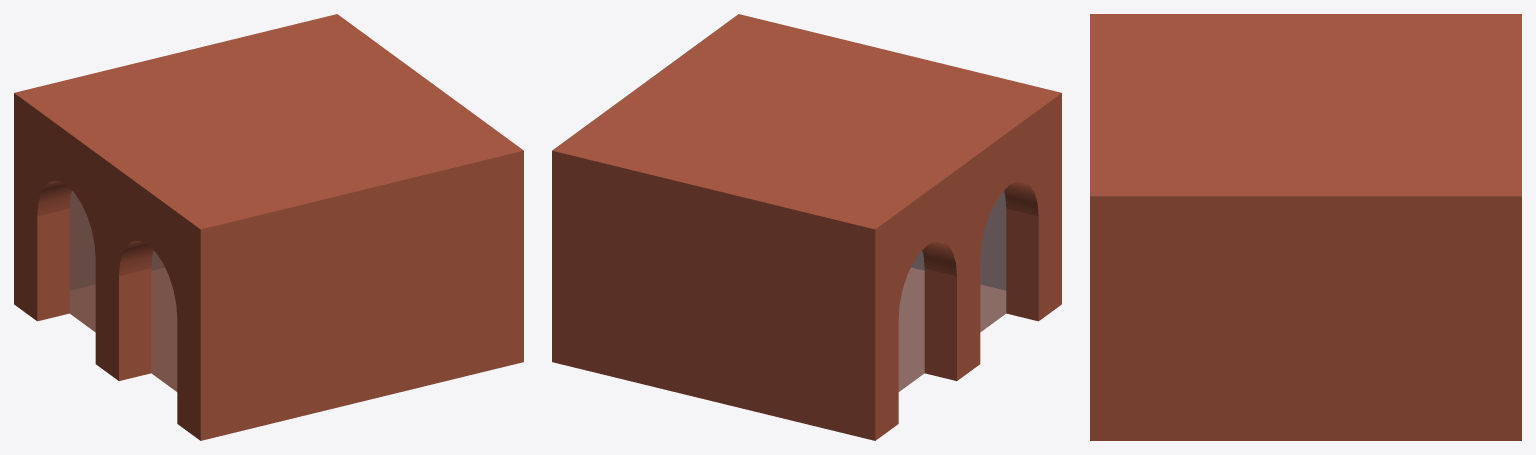
The model's file is modularBuildings_022.obj.
3 renders of one model, left to right at view 1: azimuth 30°, elevation 25°; view 2: azimuth 150°, elevation 25°; view 3: azimuth 270°, elevation 25°, orthographic. The views are drawn at different scales.
Parts seen in each view (by area): view 1: Mesh1 Group1 Model; view 2: Mesh1 Group1 Model; view 3: Mesh1 Group1 Model.
Boxes of the visible parts, x1=… form: Mesh1 Group1 Model: x1=14, y1=14, x2=523, y2=440; Mesh1 Group1 Model: x1=552, y1=14, x2=1061, y2=440; Mesh1 Group1 Model: x1=1090, y1=14, x2=1521, y2=440.
Size of the model in its own units: 1 by 0.625 by 1.
